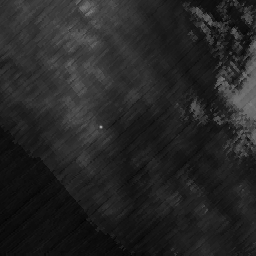Target: (98, 125, 102, 129)
